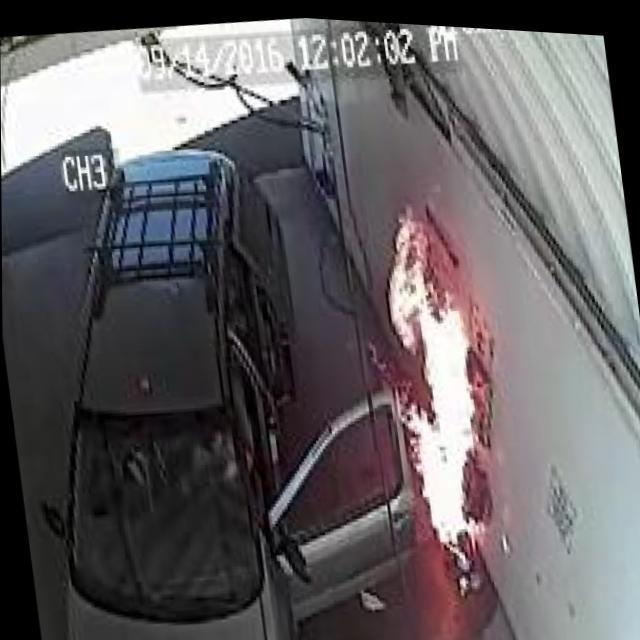fire: (368, 190, 513, 563)
